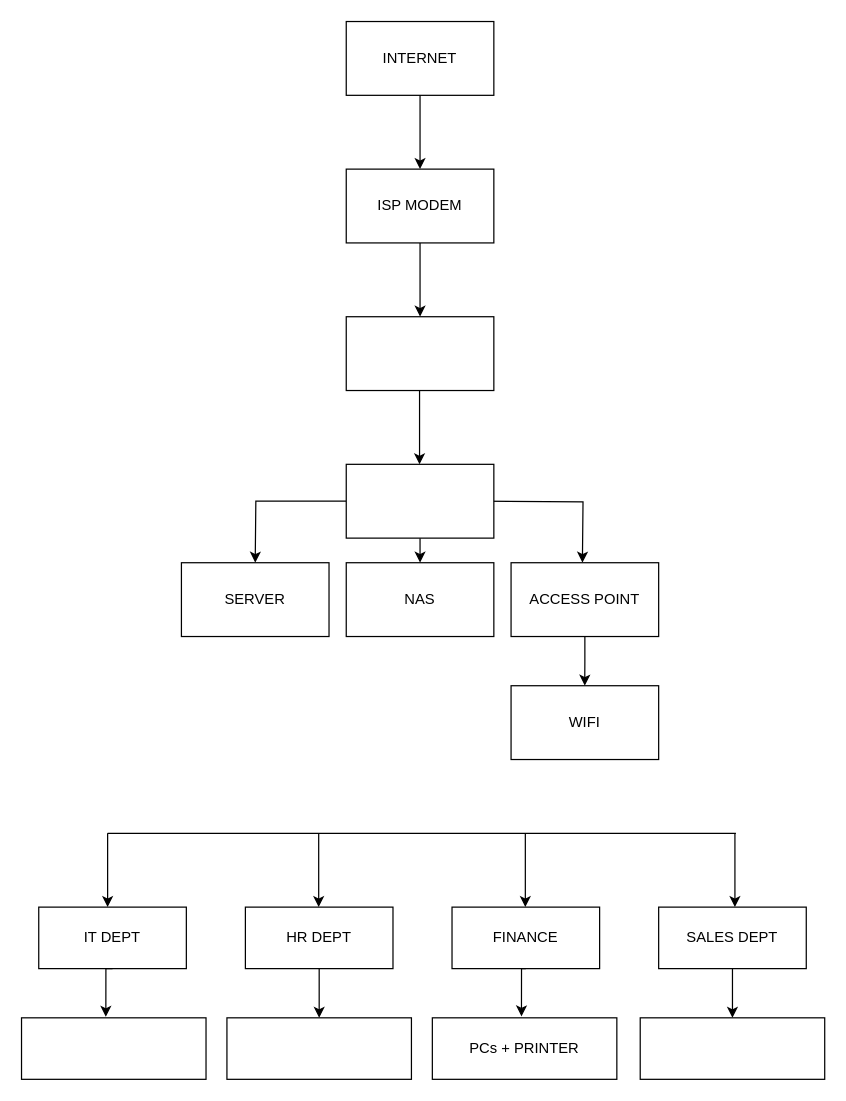
Some shapes in this 846 by 1101 pixel diagram are drawn without their labels. Each missing label, with the centre of its shape:
MANAGED SWITCH: (419,500)
PC/LAPTOP: (113,1048)
PCs: (318,1048)
PCs/LAPTOP: (732,1048)
ROUTER: (419,353)
